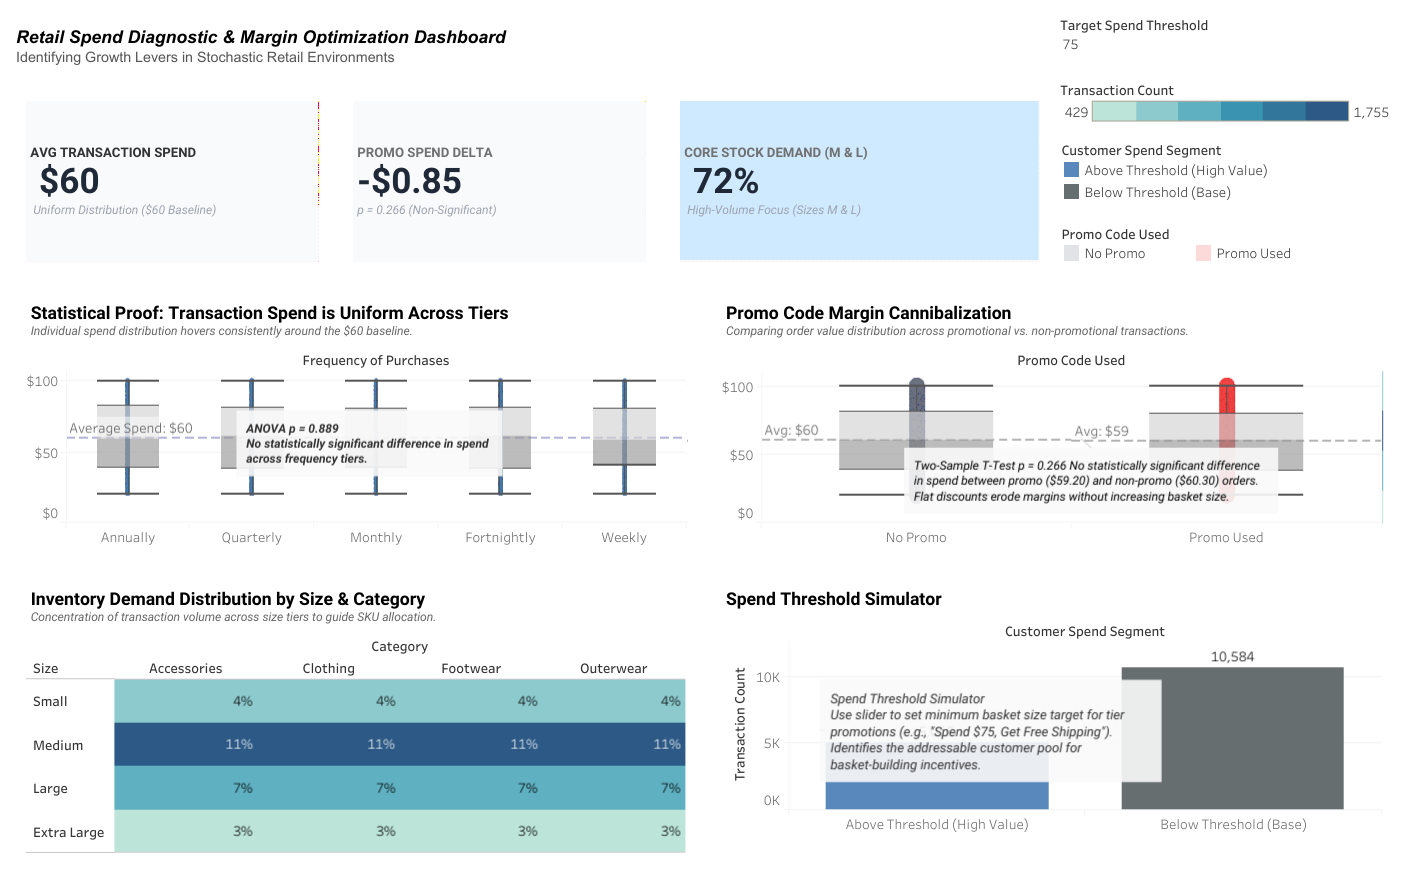

The page's visual inventory and layout, read from the dashboard file:
{"tool":"tableau","page":{"name":"Dashboard 1","canvas":[1280,800],"ordinal":0},"visuals":[{"type":"title","box":[8,8,952,68]},{"type":"parameter","param":"[Parameters].[Parameter 1]","box":[960,8,312,56.3]},{"type":"legend","title":"Chart 3 - Inventory Optimization","param":"[federated.14lg02h0f9017012v9cjr1pjl8mf].[usr:Calculation_1387953140060622848:qk","box":[960,64.3,312,56.3]},{"type":"worksheet","title":"KPI - Avg Spend","mark":"Automatic","box":[8,76,296.9,177]},{"type":"worksheet","title":"KPI - Promo code used","mark":"Automatic","box":[304.9,76,297,177]},{"type":"worksheet","title":"KPI - Top Sizes","mark":"Automatic","box":[601.9,76,358.1,177]},{"type":"legend","title":"Chart 4: What-If Spend Threshold Simulator","param":"[federated.14lg02h0f9017012v9cjr1pjl8mf].[none:Calculation_1387953140066549761:n","box":[960,120.7,312,76]},{"type":"legend","title":"Chart 2: Promo Code Margin Cannibalization","param":"[federated.14lg02h0f9017012v9cjr1pjl8mf].[none:Promo Code Used:ok]","box":[960,196.7,312,56.3]},{"type":"worksheet","title":"Chart 1 - Uniform Distribution","mark":"Circle","rows":["Purchase Amount (USD)"],"cols":["Frequency of Purchases"],"box":[8,253,632,260]},{"type":"worksheet","title":"Chart 2: Promo Code Margin Cannibalization","mark":"Circle","rows":["Purchase Amount (USD)"],"cols":["Promo Code Used"],"box":[640,253,632,260]},{"type":"worksheet","title":"Chart 3 - Inventory Optimization","mark":"Square","rows":["Size"],"cols":["Pivot Field Names"],"box":[8,513,632,279]},{"type":"worksheet","title":"Chart 4: What-If Spend Threshold Simulator","mark":"Automatic","rows":["Calculation_1387953140060622848"],"cols":["Calculation_1387953140066549761"],"box":[640,513,632,279]}]}

Visuals, with their boxes in screenshot pixels (x1, y1, x2, y2), scaled from the page's 1280x800 canvas onto the 1407x879 screenshot:
title: {"x1": 9, "y1": 9, "x2": 1055, "y2": 84}
parameter: {"x1": 1055, "y1": 9, "x2": 1398, "y2": 71}
"Chart 3 - Inventory Optimization" legend: {"x1": 1055, "y1": 71, "x2": 1398, "y2": 133}
"KPI - Avg Spend" worksheet: {"x1": 9, "y1": 84, "x2": 335, "y2": 278}
"KPI - Promo code used" worksheet: {"x1": 335, "y1": 84, "x2": 662, "y2": 278}
"KPI - Top Sizes" worksheet: {"x1": 662, "y1": 84, "x2": 1055, "y2": 278}
"Chart 4: What-If Spend Threshold Simulator" legend: {"x1": 1055, "y1": 133, "x2": 1398, "y2": 216}
"Chart 2: Promo Code Margin Cannibalization" legend: {"x1": 1055, "y1": 216, "x2": 1398, "y2": 278}
"Chart 1 - Uniform Distribution" worksheet (Circle marks): {"x1": 9, "y1": 278, "x2": 704, "y2": 564}
"Chart 2: Promo Code Margin Cannibalization" worksheet (Circle marks): {"x1": 704, "y1": 278, "x2": 1398, "y2": 564}
"Chart 3 - Inventory Optimization" worksheet (Square marks): {"x1": 9, "y1": 564, "x2": 704, "y2": 870}
"Chart 4: What-If Spend Threshold Simulator" worksheet: {"x1": 704, "y1": 564, "x2": 1398, "y2": 870}
